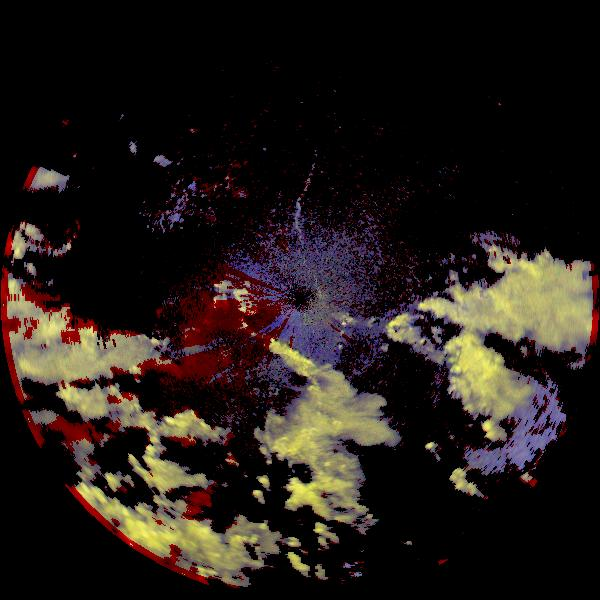roost: (121, 313, 217, 409)
